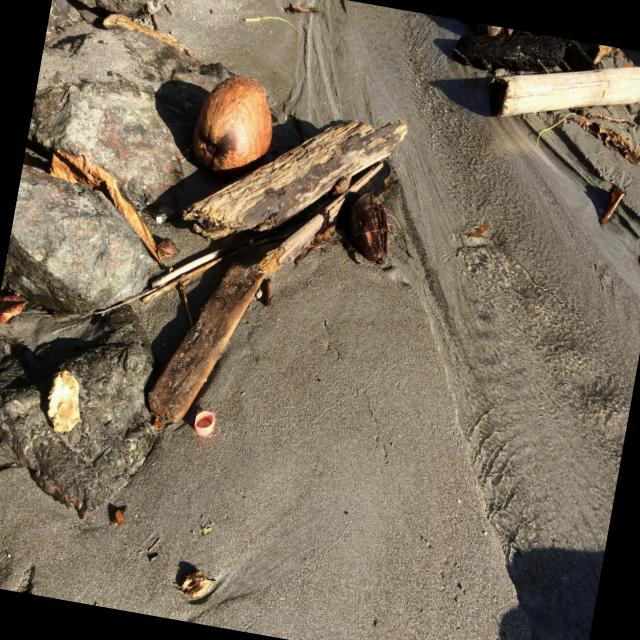Bottle cap: (195, 411, 214, 436)
